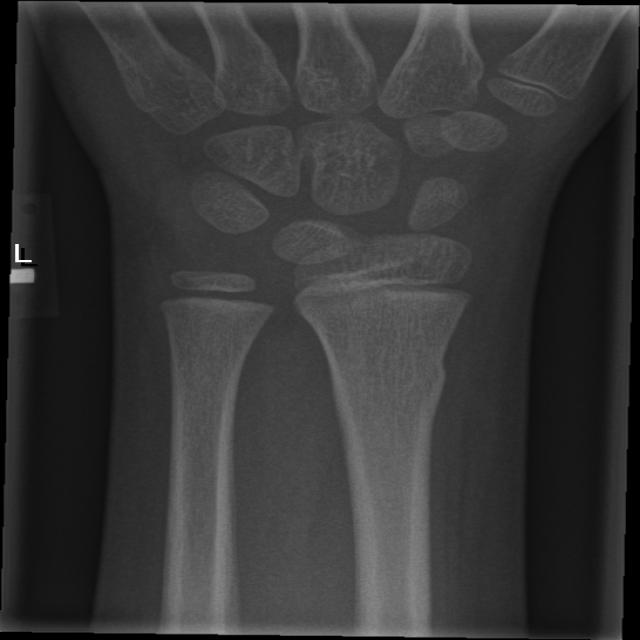radius fracture: (294, 330, 497, 450)
